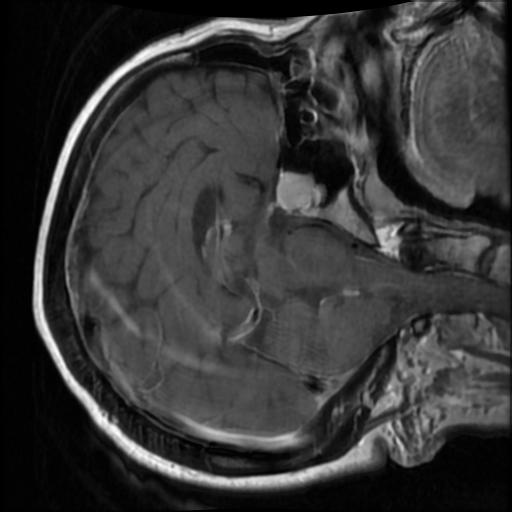pituitary tumour: (277, 172, 319, 212)
